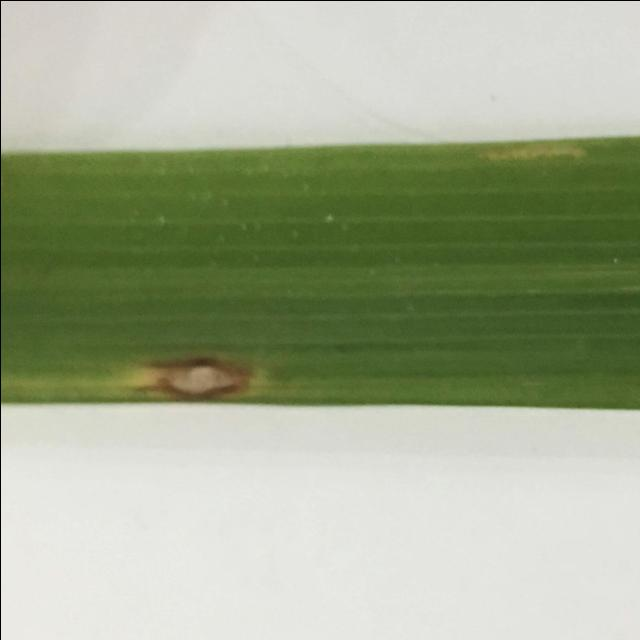Leaf blast: (0, 72, 640, 458)
